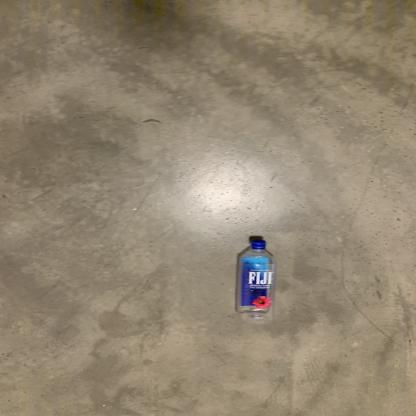trash: (233, 236, 279, 327)
